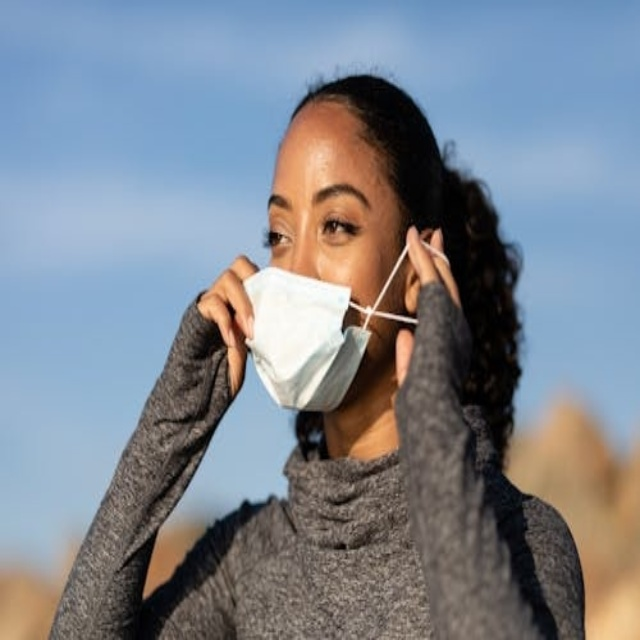Mascara: (240, 264, 377, 413)
Sin_gafas: (262, 177, 372, 258)
Sin_guantes: (390, 223, 465, 394), (195, 240, 261, 398)
